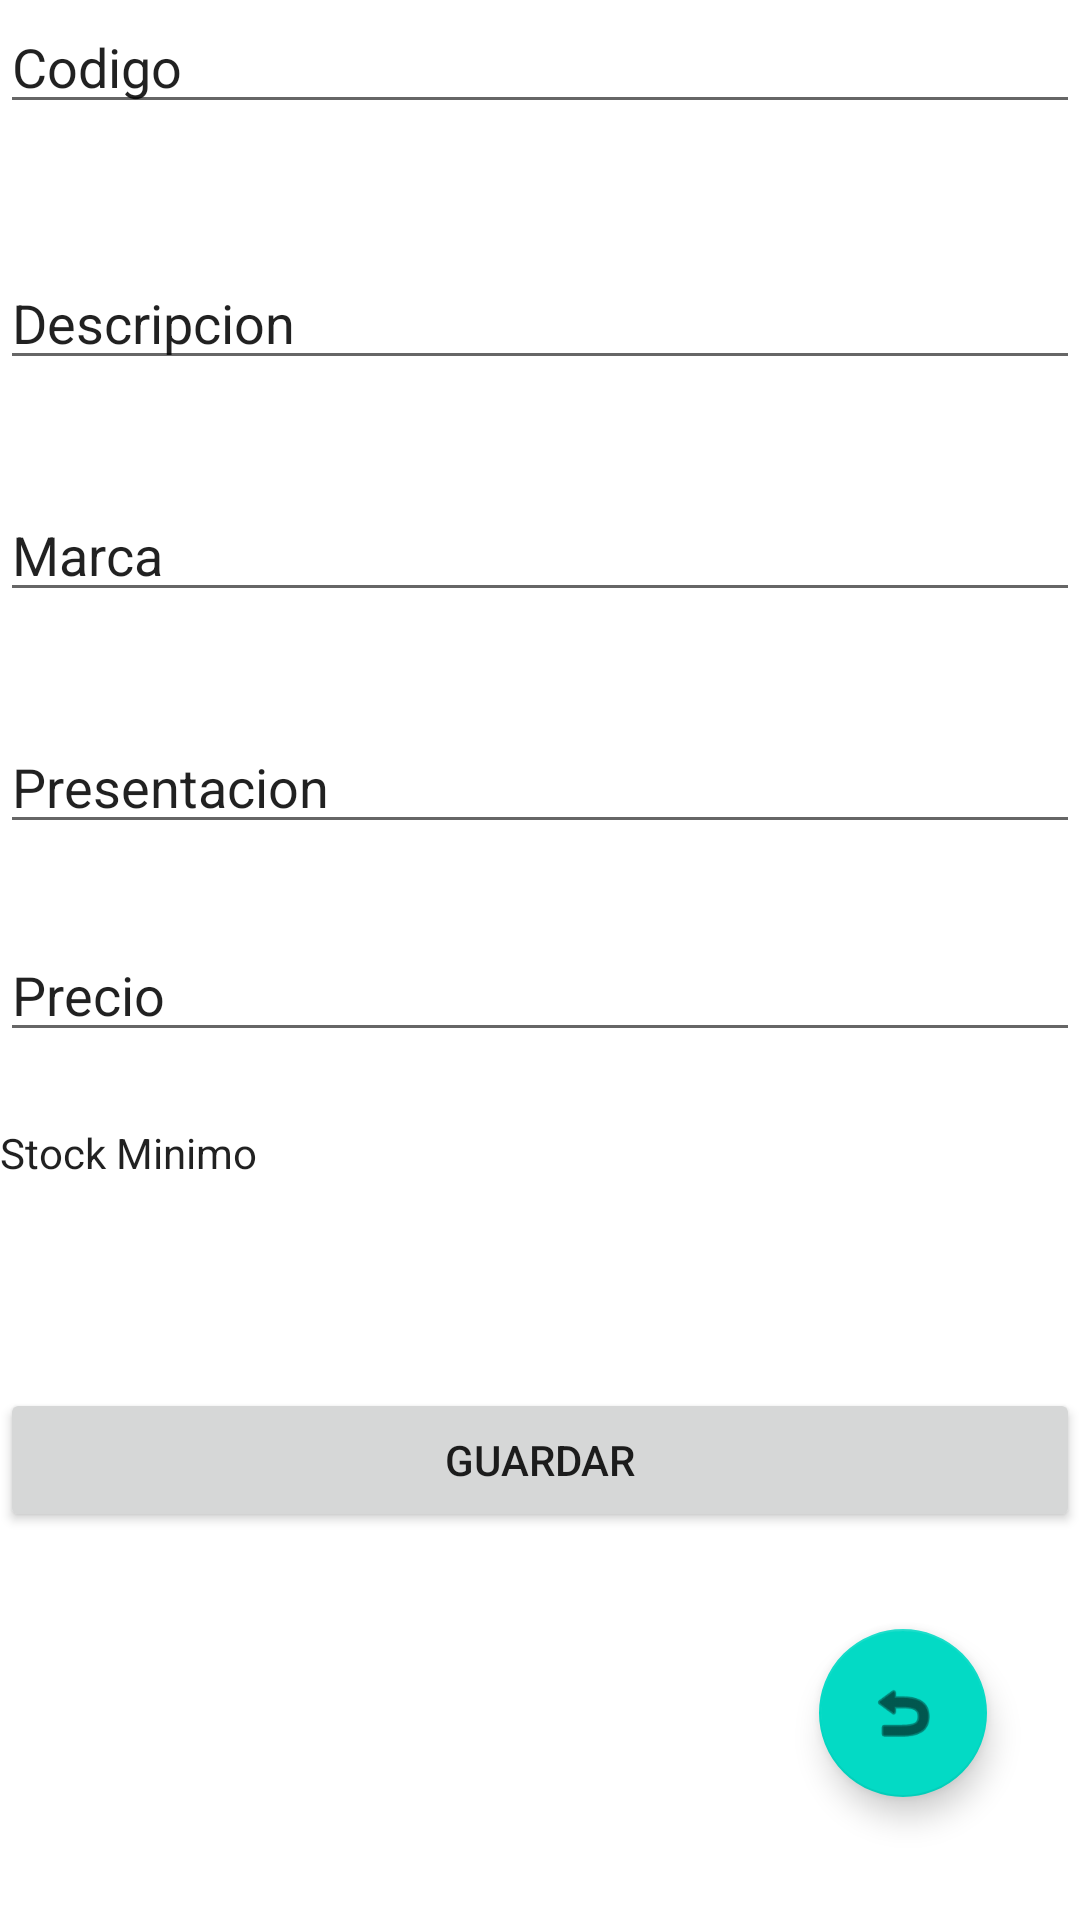

Where to tap for icons on this 1080px×1920px app screen, as point (x, y):
revert: point (903, 1713)
